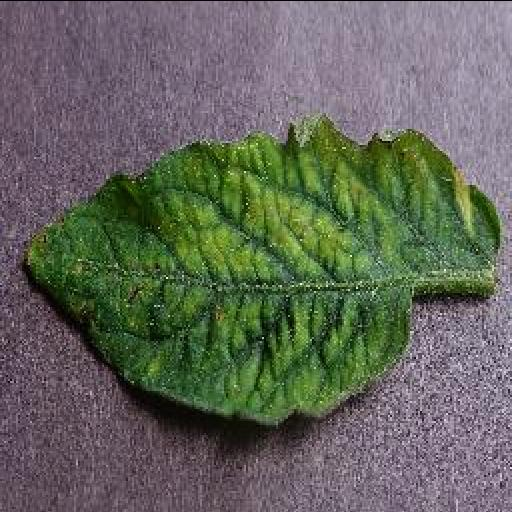disease_tomato: (22, 114, 502, 432)
